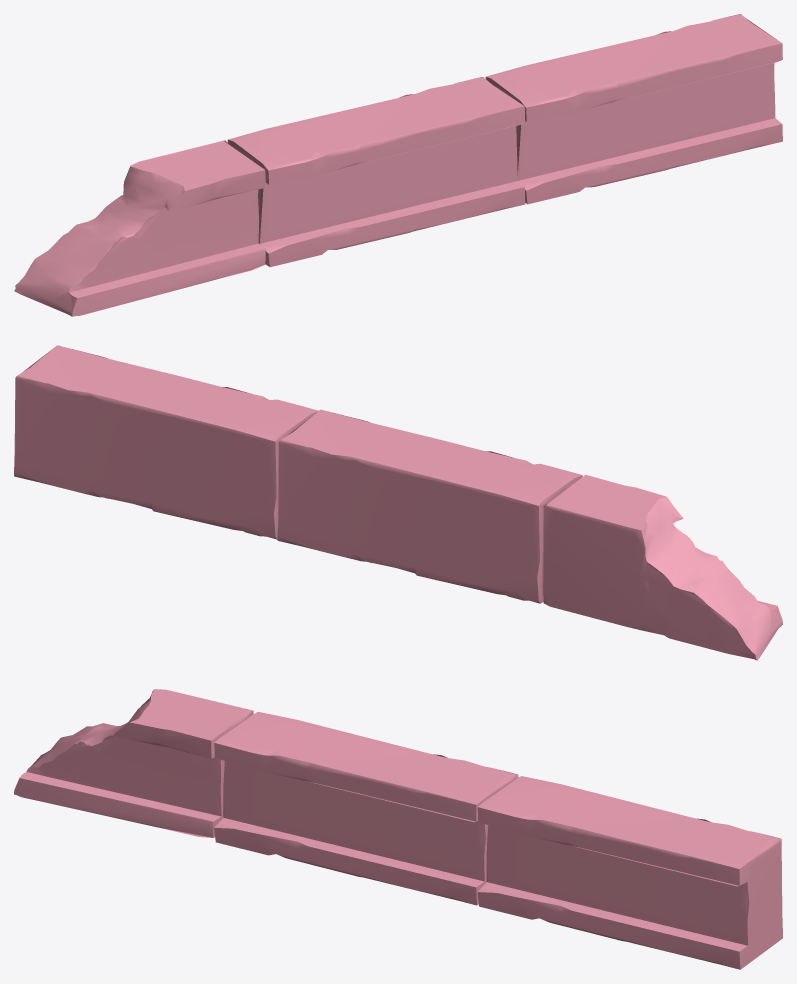
The model's file is stone_element_15_line_05_Damaged_1.fbx.
3 renders of one model, top to bottom at view 1: azimuth 30°, elevation 25°; view 2: azimuth 150°, elevation 25°; view 3: azimuth 330°, elevation 25°, orthographic. The views are drawn at different scales.
Parts seen in each view (by area): view 1: stone_element_15_line_05_Damaged_1_LOD0; view 2: stone_element_15_line_05_Damaged_1_LOD0; view 3: stone_element_15_line_05_Damaged_1_LOD0.
Boxes of the visible parts, x1,y1,x2,y2 form: stone_element_15_line_05_Damaged_1_LOD0: (14,14,782,316); stone_element_15_line_05_Damaged_1_LOD0: (14,345,782,660); stone_element_15_line_05_Damaged_1_LOD0: (14,689,782,969).
Size of the model in its own units: 516 by 69.1 by 52.22.
